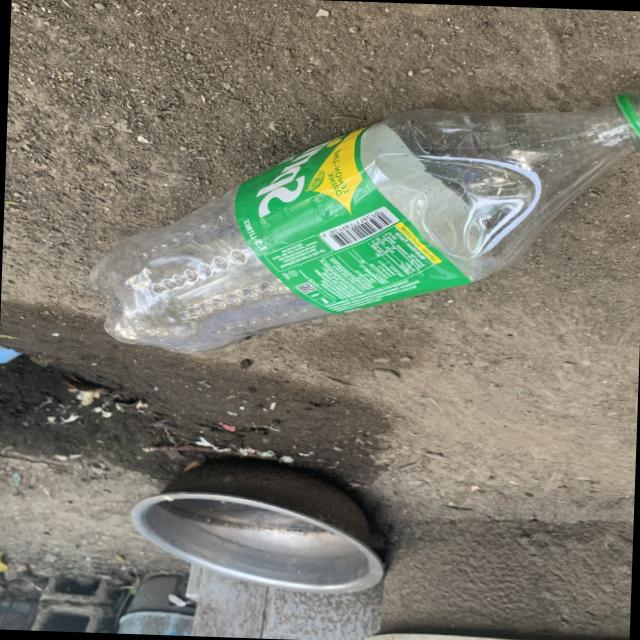Bottle: (90, 91, 640, 353)
